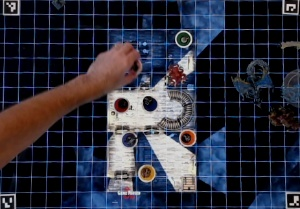blue: (141, 95, 161, 113)
green: (173, 29, 193, 49)
orange: (179, 126, 198, 145)
pink: (122, 56, 146, 79)
red: (113, 96, 130, 113)
violet: (121, 131, 140, 149)
yellow: (134, 161, 156, 184)
